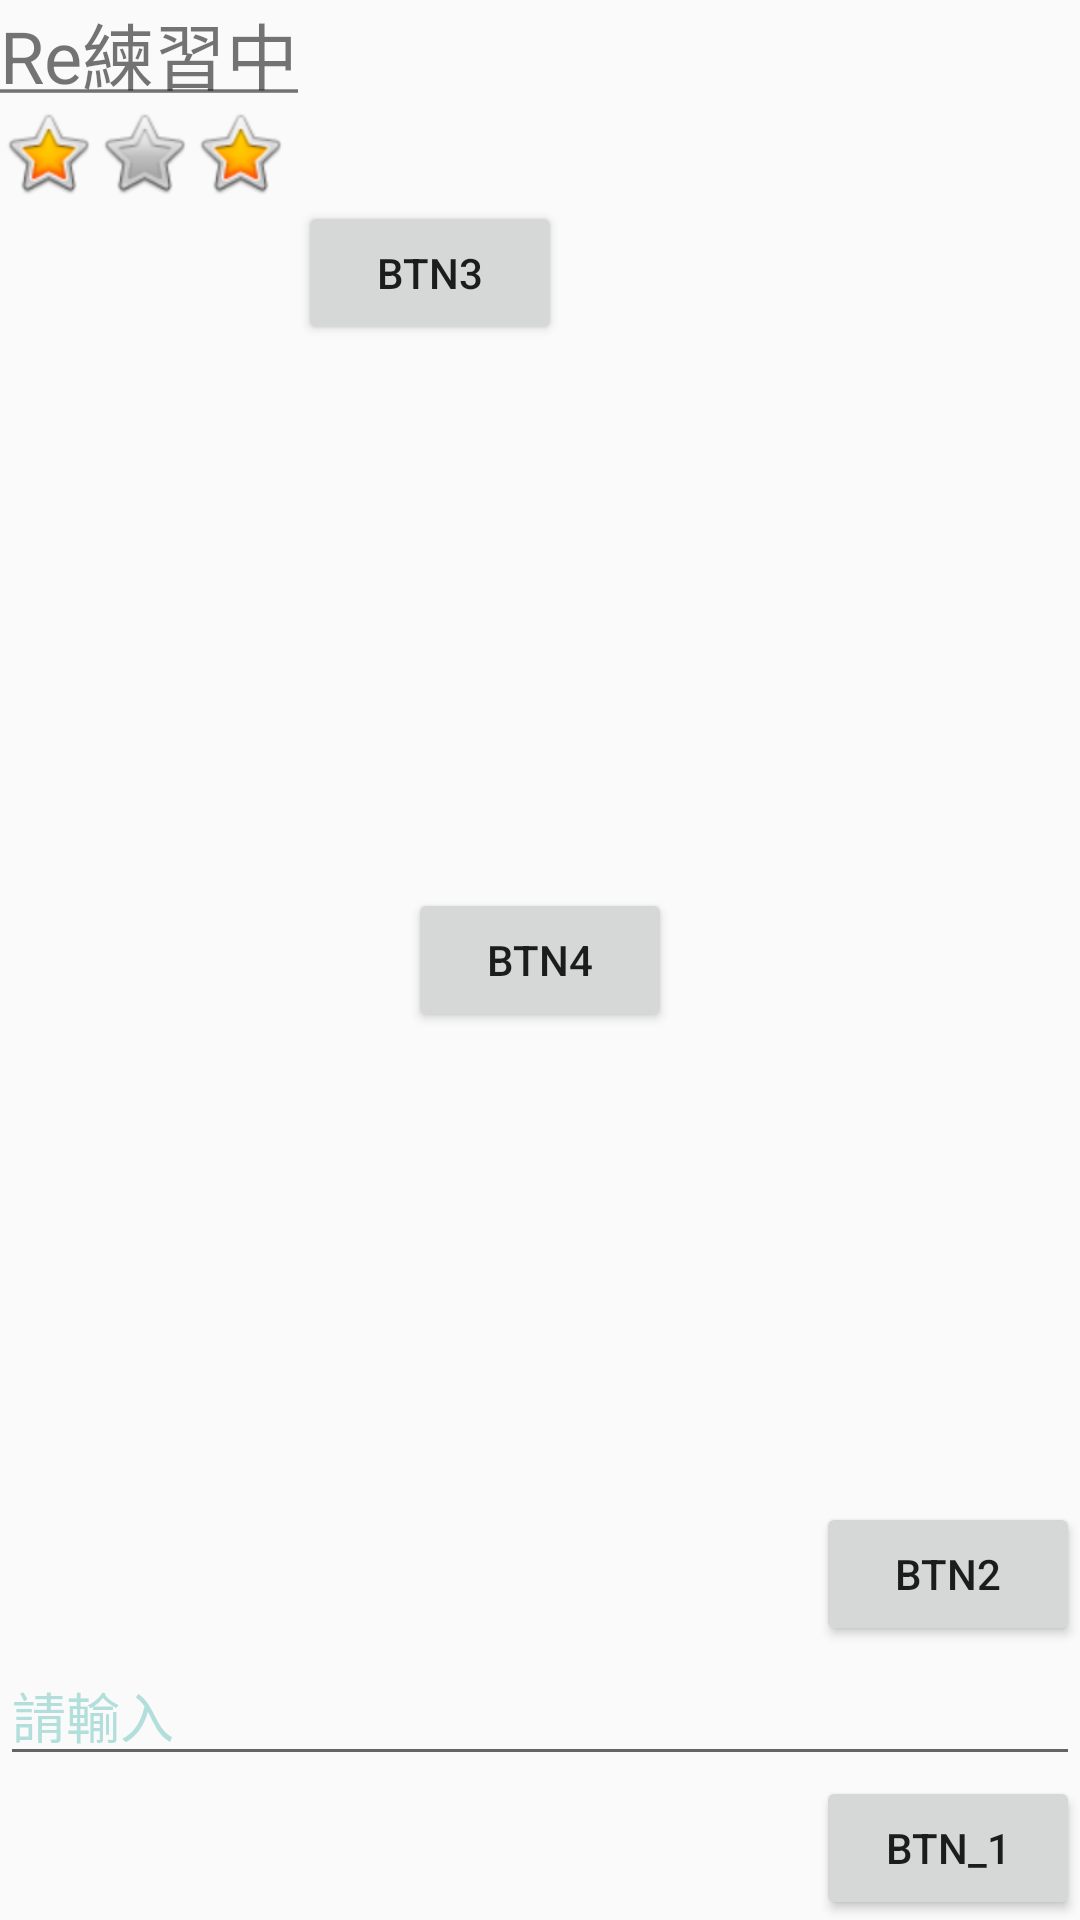

Icon bounding boxes for this 1080x1920 phone screenshot, format (x1, y1, x2, y2):
star off: (105, 115, 185, 193)
star on: (9, 115, 89, 193), (201, 115, 281, 193)
